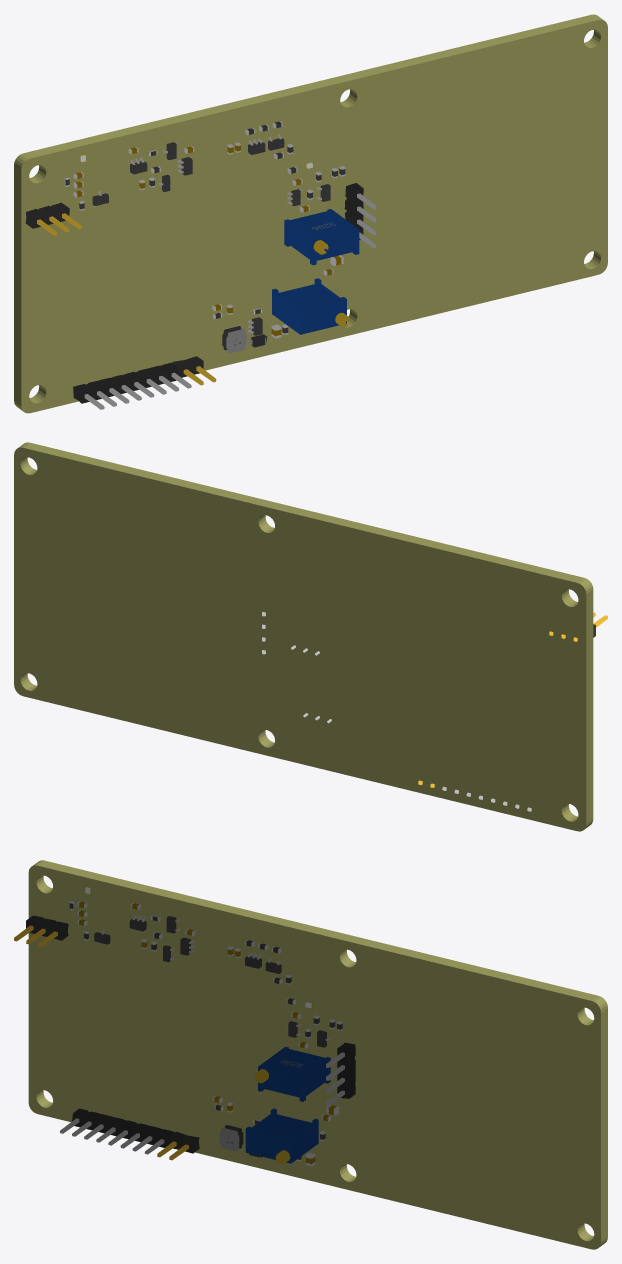
Rendered from OBJ_PCB.obj.
The picture shows the model from 3 angles, top to bottom: view 1: azimuth 30°, elevation 25°; view 2: azimuth 150°, elevation 25°; view 3: azimuth 330°, elevation 25°; orthographic projection. The views are drawn at different scales.
Size of the model in its own units: 472 by 196 by 59.06.
